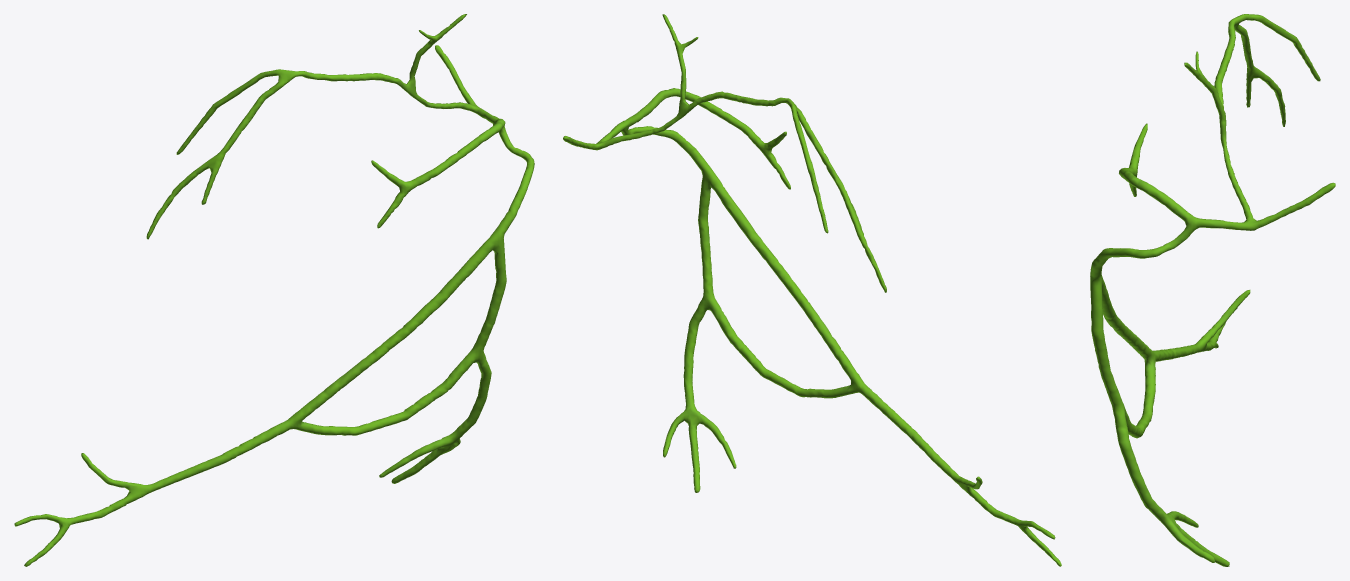
File: Facial_nerve_L.glb
3 views of the same model, side by side, from view 1: azimuth 30°, elevation 25°; view 2: azimuth 150°, elevation 25°; view 3: azimuth 270°, elevation 25° (orthographic). The views are drawn at different scales.
Parts seen in each view (by area): view 1: Facial_nerve_L; view 2: Facial_nerve_L; view 3: Facial_nerve_L.
Part boxes in pixels (<box>): Facial_nerve_L: <box>14,14,534,566</box>; Facial_nerve_L: <box>563,14,1061,566</box>; Facial_nerve_L: <box>1090,14,1335,566</box>.
Bounding box in the file's own units: 0.3334 × 0.3123 × 0.1303.
1 material, 1 textured.
